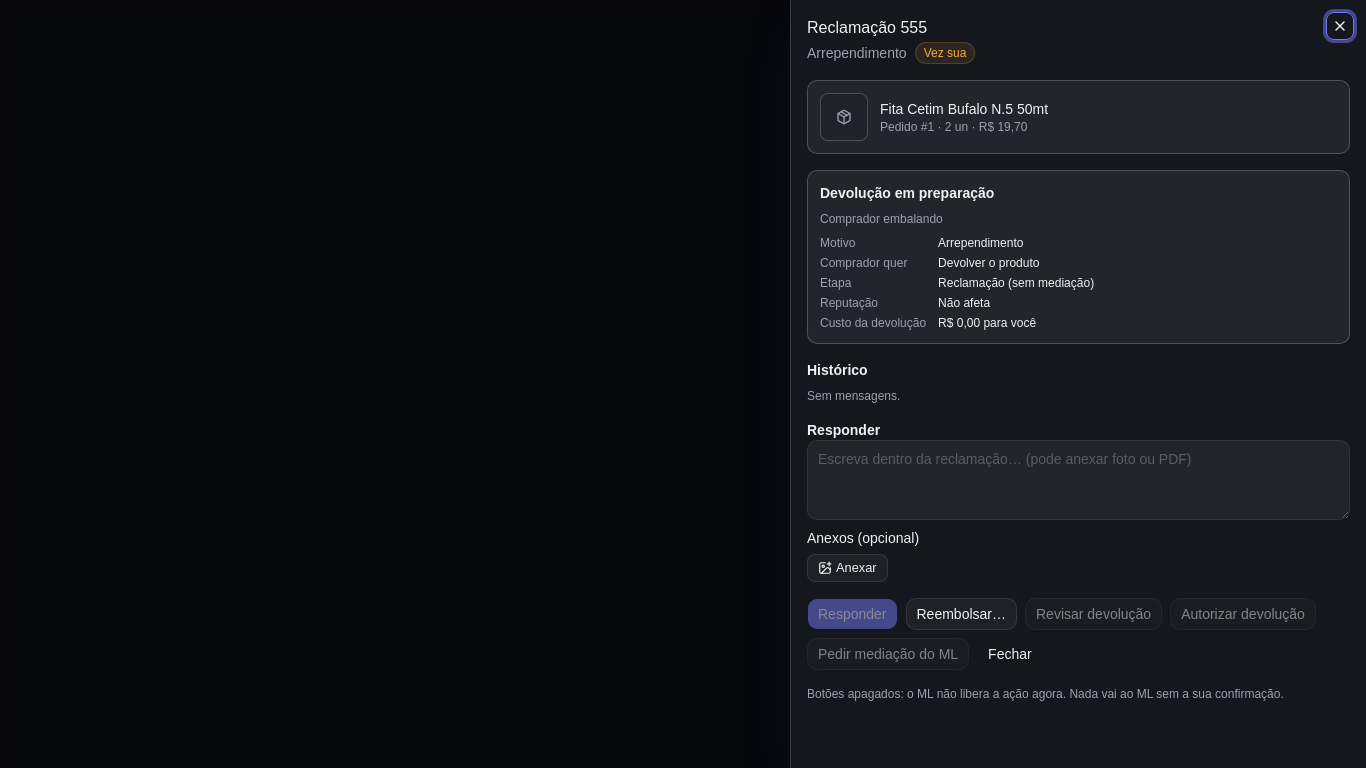
5. reembolso por opção liberada › só o parcial liberado: total desabilitado e o padrão é uma oferta parcial
The image size is (1366, 768).
Click the button "Reembolsar…" at (961, 614), box 906,598 -> 1017,630
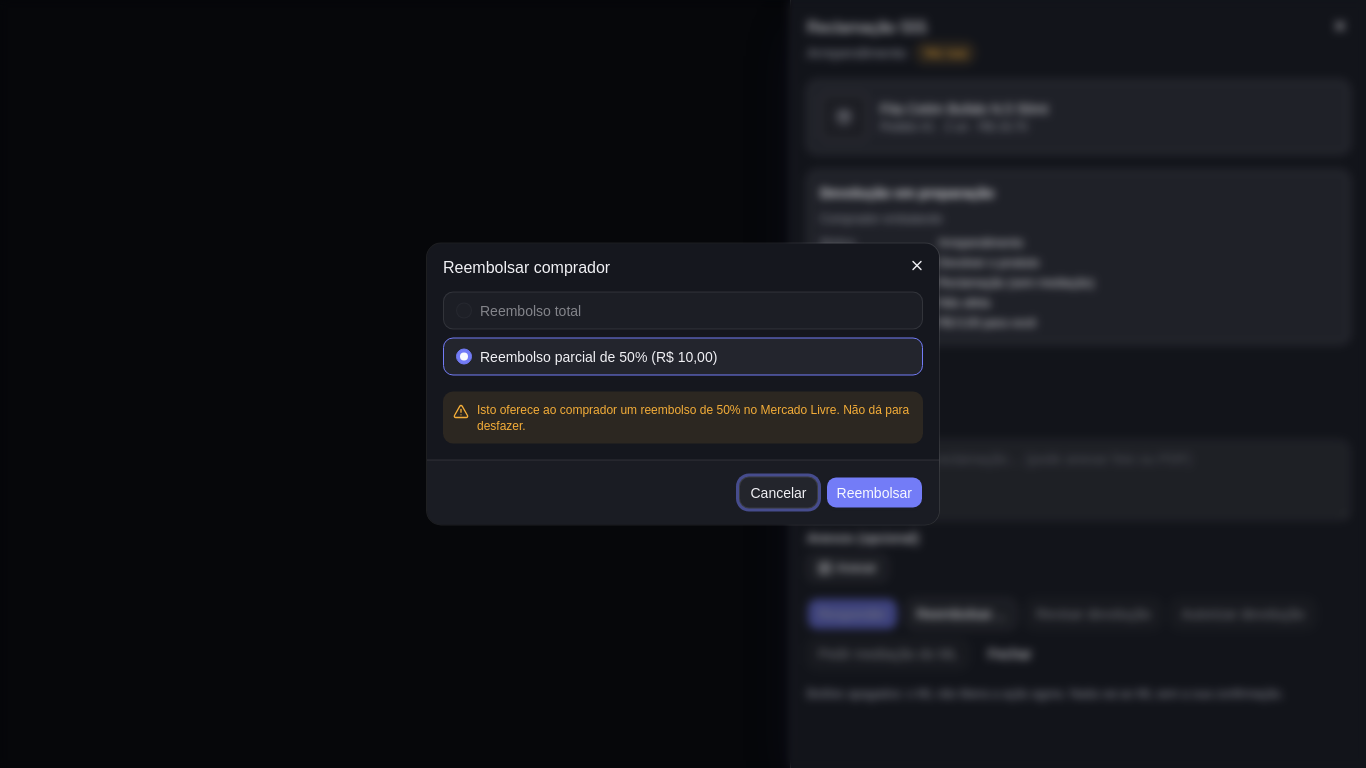
Expected: the radio button named "Reembolso parcial de 50%" next to "Reembolso parcial de" is checked, 456,348 -> 472,364
